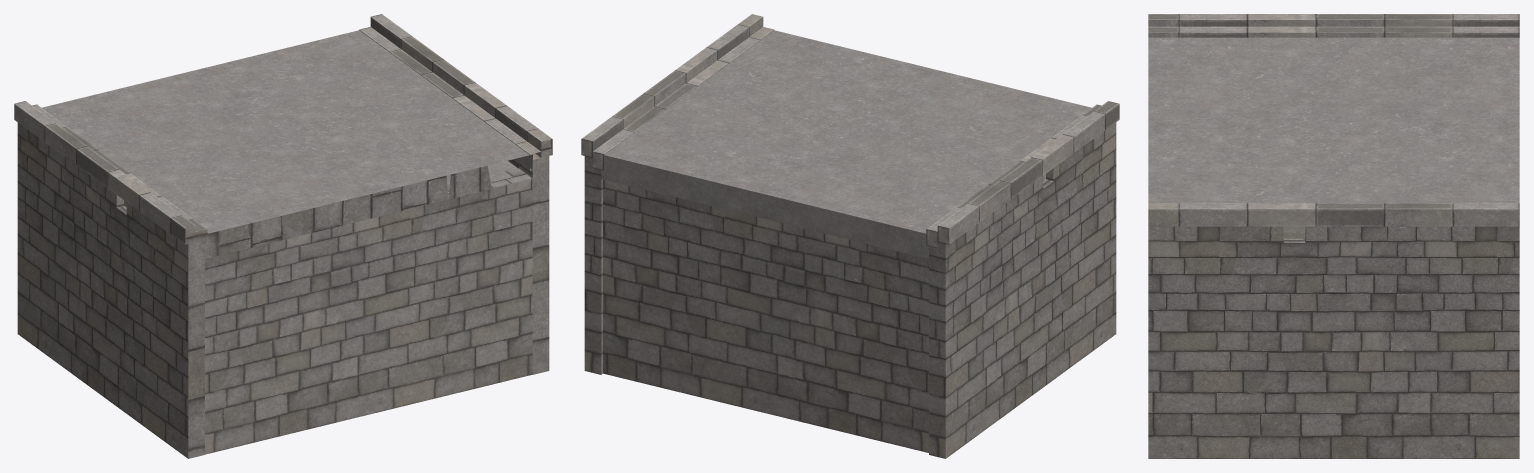
Rendered from SM_Fortification.fbx.
The picture shows the model from 3 angles, left to right: view 1: azimuth 30°, elevation 25°; view 2: azimuth 150°, elevation 25°; view 3: azimuth 270°, elevation 25°; orthographic projection. The views are drawn at different scales.
Visible parts, largest first — view 1: SM_Fortification; view 2: SM_Fortification; view 3: SM_Fortification.
Part boxes in pixels (x1,y1,x2,y2): SM_Fortification: [14, 14, 552, 458]; SM_Fortification: [581, 14, 1119, 458]; SM_Fortification: [1148, 14, 1519, 458].
Size of the model in its own units: 1300 by 1046 by 782.
3 materials, 3 textured.
